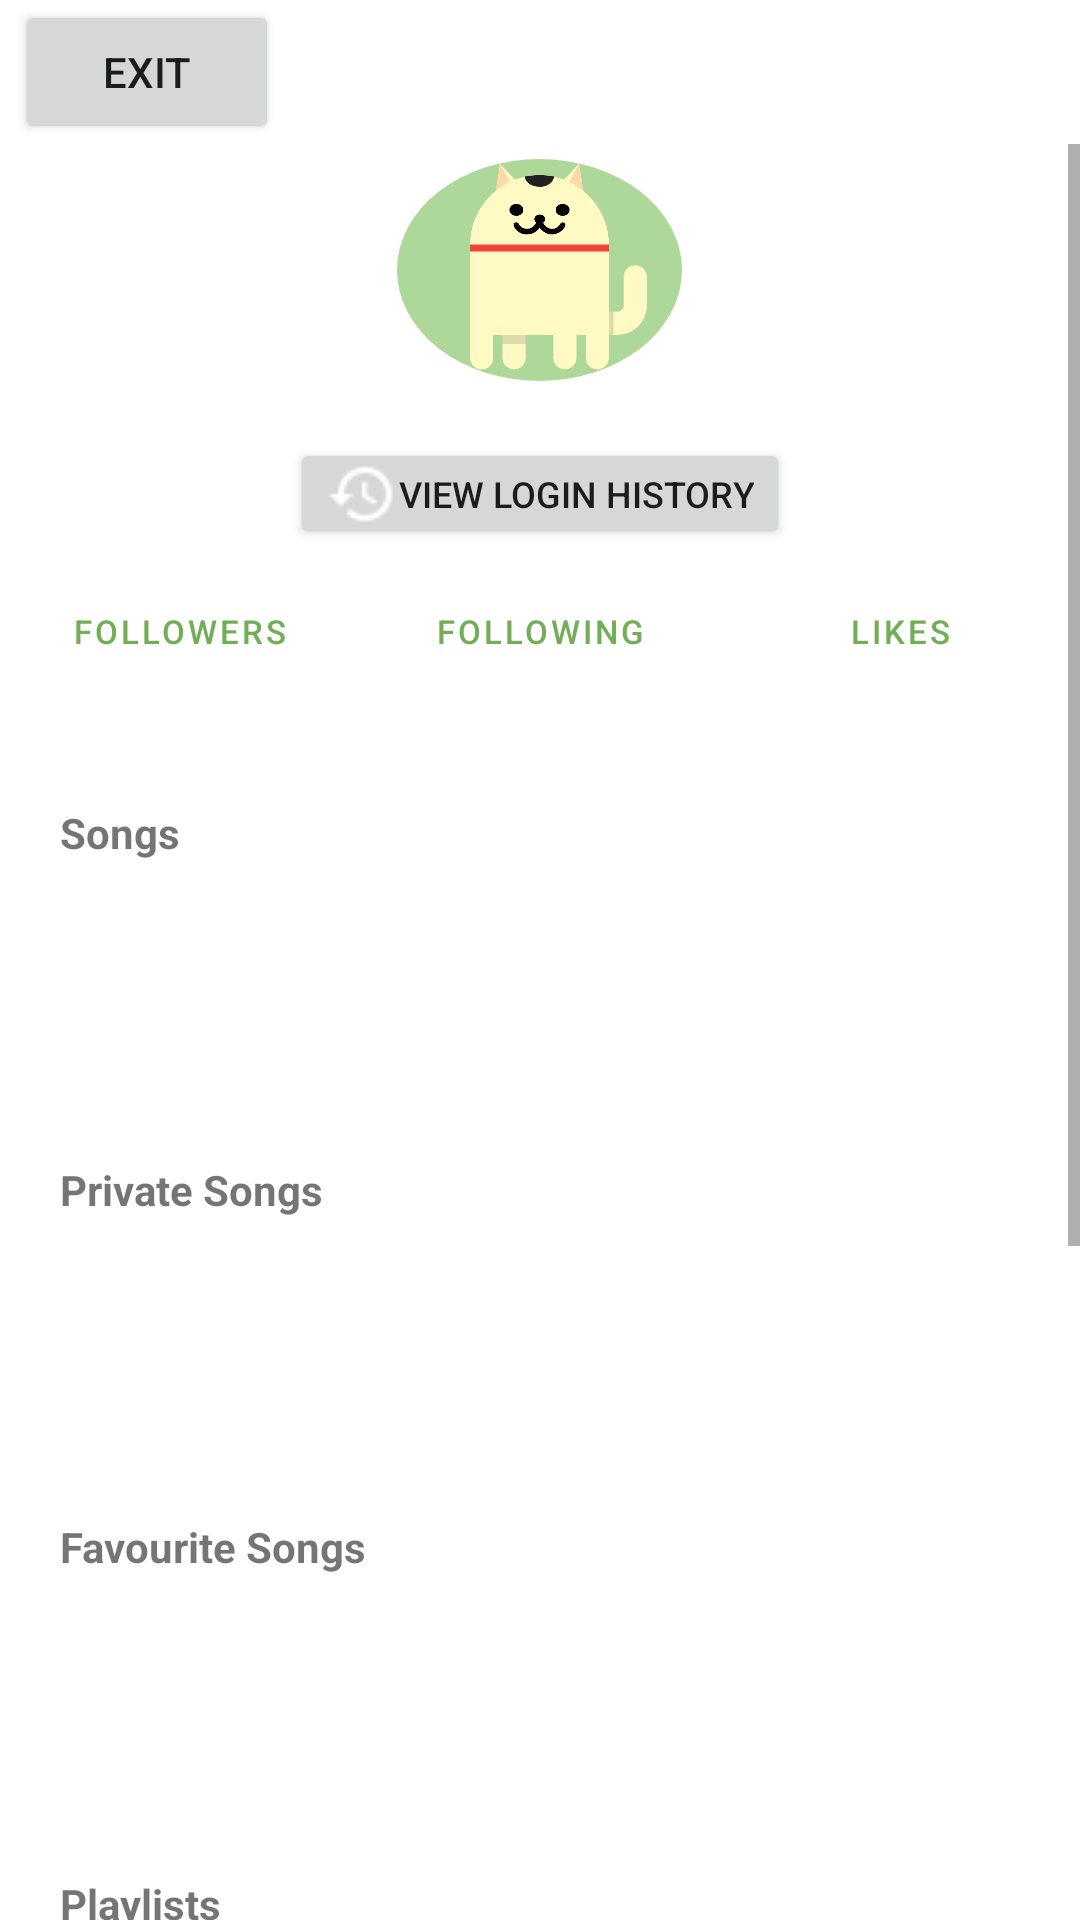

Icon bounding boxes for this 1080w x 1920h phone screenshot, format bbox=[x1, y1, x2, y2]:
userlogo: bbox=[397, 159, 682, 381]
